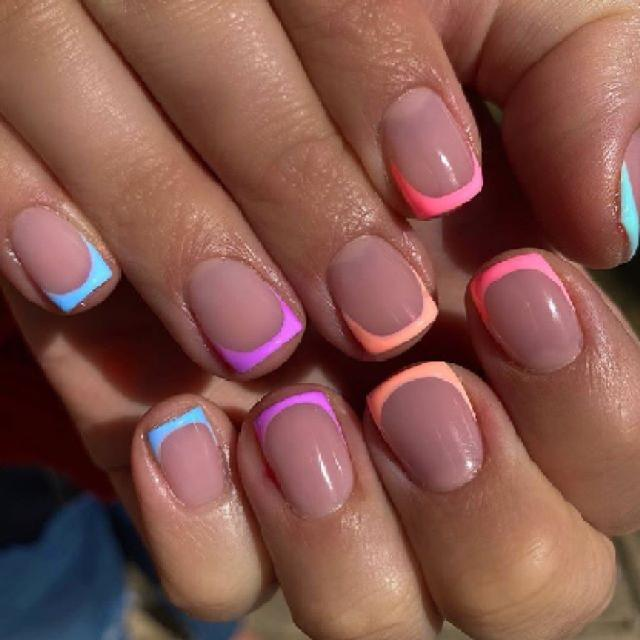Nail: (370, 362, 484, 491), (470, 251, 581, 372), (186, 258, 302, 373), (380, 88, 482, 218), (328, 235, 438, 354), (254, 390, 355, 516), (11, 209, 112, 313), (146, 405, 229, 507), (619, 129, 640, 254)
